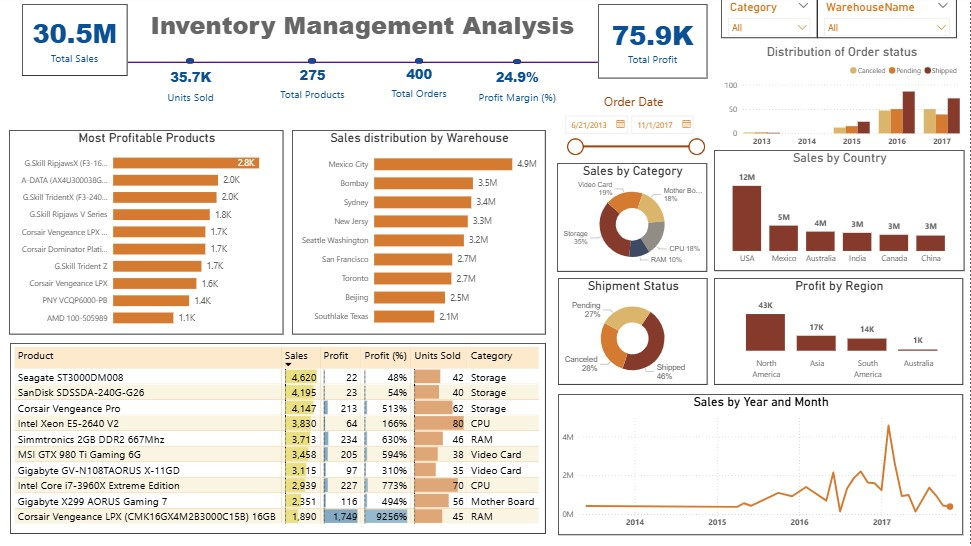

This screenshot's page, from the dashboard's own definition file:
{"tool":"powerbi","page":{"name":"Duplicate of Page 2","canvas":[1500,850],"ordinal":3},"visuals":[{"type":"donutChart","title":"Sales by Category","fields":{"Category":["FactOrders.CategoryName"],"Y":["FactOrders.Total Sales"]},"box":[861.3,258.1,232.3,167.7],"z":0},{"type":"clusteredColumnChart","title":"Distribution of Order status","fields":{"Category":["FactOrders.OrderDate.Variation.Date Hierarchy.Year"],"Y":["FactOrders.Total Orders"],"Series":["FactOrders.Status"]},"box":[1114.3,74.2,374,168.5],"z":1000},{"type":"clusteredBarChart","title":"Sales distribution by Warehouse","fields":{"Category":["FactOrders.WarehouseName"],"Y":["FactOrders.Total Sales"]},"box":[451.6,206.5,391.9,316.1],"z":2000},{"type":"tableEx","fields":{"Values":["FactOrders.ProductName","FactOrders.Total Sales","FactOrders.Total Profit","FactOrders.Profit Margin (%)","FactOrders.Total Units Sold","FactOrders.CategoryName"]},"box":[15,536.7,828.3,295],"z":3000},{"type":"slicer","fields":{"Values":["FactOrders.CategoryName"]},"box":[1113.6,0,148.9,64.8],"z":4000},{"type":"textbox","box":[196.8,12.9,727.4,72.6],"z":5000},{"type":"slicer","title":"Order Date","fields":{"Values":["FactOrders.OrderDate"]},"box":[861.3,150,237.1,101.6],"z":6000},{"type":"card","fields":{"Values":["FactOrders.Total Distinct Products"]},"box":[404.8,96.8,156.5,72.6],"z":7000},{"type":"lineChart","title":"Sales by Year and Month","fields":{"Y":["FactOrders.Total Sales"],"Category":["FactOrders.OrderDate.Variation.Date Hierarchy.Year","FactOrders.OrderDate.Variation.Date Hierarchy.Month"]},"box":[862.9,614.5,625.8,217.7],"z":8000},{"type":"columnChart","title":"Profit by Region","fields":{"Category":["FactOrders.RegionName"],"Y":["FactOrders.Total Profit"]},"box":[1103.2,435.5,385.5,164.5],"z":9000},{"type":"barChart","title":"Most Profitable Products","fields":{"Y":["FactOrders.Total Profit"],"Category":["FactOrders.ProductName"]},"box":[14.5,206.5,424.2,316.1],"z":10000},{"type":"columnChart","title":"Sales by Country","fields":{"Category":["FactOrders.CountryName"],"Y":["FactOrders.Total Sales"]},"box":[1103.2,238.7,387.1,187.1],"z":11000},{"type":"card","fields":{"Values":["FactOrders.Total Sales"]},"box":[33.9,12.9,162.9,111.3],"z":12000},{"type":"card","fields":{"Values":["FactOrders.Total Profit"]},"box":[924.2,12.9,169.4,114.5],"z":13000},{"type":"card","fields":{"Values":["FactOrders.Total Orders"]},"box":[567.7,74.2,161.3,116.1],"z":14000},{"type":"card","fields":{"Values":["FactOrders.Profit Margin (%)"]},"box":[716.1,93.5,167.7,87.1],"z":15000},{"type":"donutChart","title":"Shipment Status","fields":{"Category":["FactOrders.Status"],"Y":["FactOrders.Total Orders"]},"box":[862.9,435.5,230.6,164.5],"z":16000},{"type":"slicer","fields":{"Values":["FactOrders.WarehouseName"]},"box":[1262.5,0,215.9,64.8],"z":17000},{"type":"card","fields":{"Values":["FactOrders.Total Units Sold"]},"box":[196.8,96.8,196.8,80.6],"z":18000},{"type":"shape","box":[198.4,67.7,725.8,69.4],"z":19000},{"type":"shape","box":[287.3,96.4,12.7,9.1],"z":20000},{"type":"shape","box":[476.4,96.4,12.7,9.1],"z":21000},{"type":"shape","box":[641.8,96.4,12.7,9.1],"z":22000},{"type":"shape","box":[793.5,96.8,12.9,8.1],"z":23000}]}

Visuals, with their boxes in screenshot pixels (x1, y1, x2, y2), scaled from the page's 1500x850 canvas onto the 971x546 screenshot:
"Sales by Category" donutChart: detection(558, 166, 708, 274)
"Distribution of Order status" clusteredColumnChart: detection(721, 48, 963, 156)
"Sales distribution by Warehouse" clusteredBarChart: detection(292, 133, 546, 336)
tableEx - FactOrders.ProductName x FactOrders.Total Sales: detection(10, 345, 546, 534)
slicer - FactOrders.CategoryName: detection(721, 0, 817, 42)
textbox: detection(127, 8, 598, 55)
"Order Date" slicer: detection(558, 96, 711, 162)
card - FactOrders.Total Distinct Products: detection(262, 62, 363, 109)
"Sales by Year and Month" lineChart: detection(559, 395, 964, 535)
"Profit by Region" columnChart: detection(714, 280, 964, 385)
"Most Profitable Products" barChart: detection(9, 133, 284, 336)
"Sales by Country" columnChart: detection(714, 153, 965, 274)
card - FactOrders.Total Sales: detection(22, 8, 127, 80)
card - FactOrders.Total Profit: detection(598, 8, 708, 82)
card - FactOrders.Total Orders: detection(367, 48, 472, 122)
card - FactOrders.Profit Margin (%): detection(464, 60, 572, 116)
"Shipment Status" donutChart: detection(559, 280, 708, 385)
slicer - FactOrders.WarehouseName: detection(817, 0, 957, 42)
card - FactOrders.Total Units Sold: detection(127, 62, 255, 114)
shape: detection(128, 43, 598, 88)
shape: detection(186, 62, 194, 68)
shape: detection(308, 62, 317, 68)
shape: detection(415, 62, 424, 68)
shape: detection(514, 62, 522, 67)
